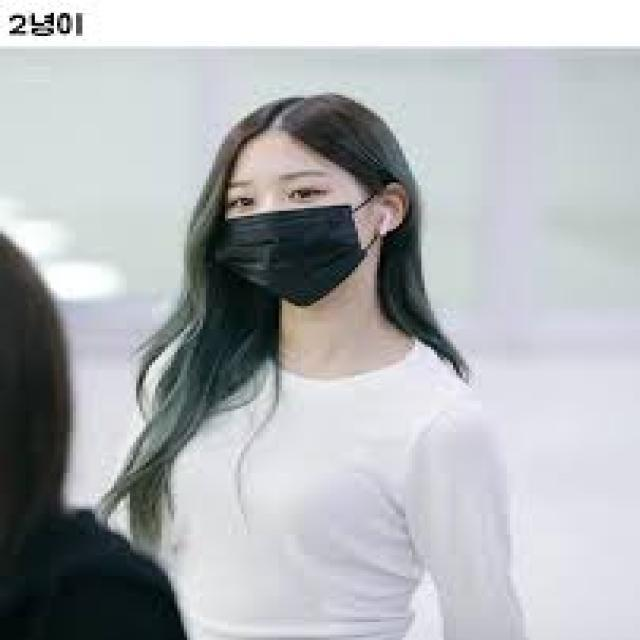earphone: (373, 194, 405, 254)
